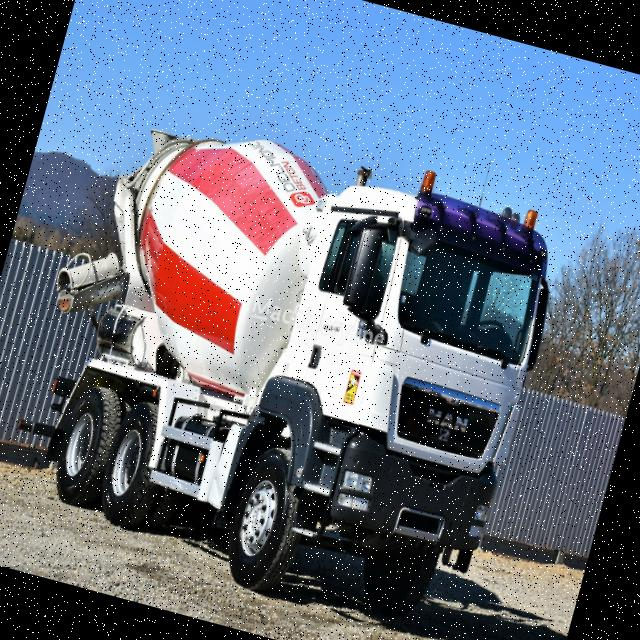Mixer Truck: (0, 96, 571, 640)
